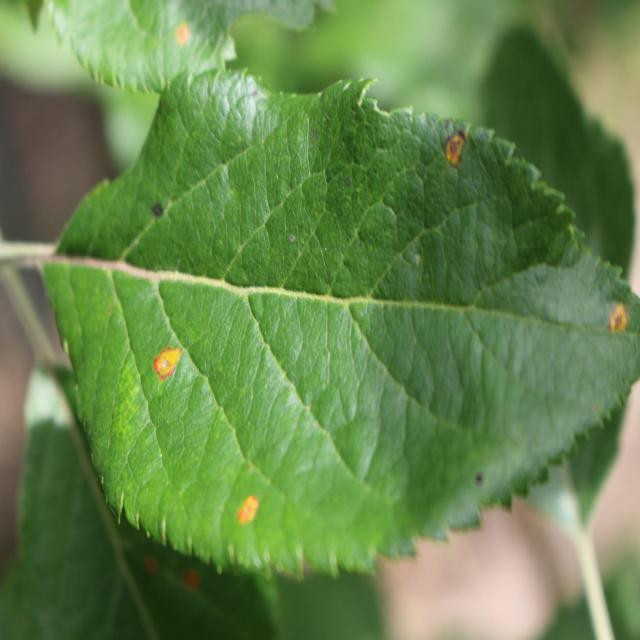Rust: (150, 341, 184, 381), (442, 126, 468, 176), (604, 300, 632, 340), (236, 494, 262, 528), (172, 21, 193, 49)
